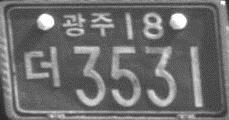1: (187, 44, 206, 109), (122, 10, 136, 41)
3: (71, 44, 106, 107), (143, 45, 177, 107)
5: (109, 44, 141, 107)
8: (142, 10, 164, 39)
광주_O: (62, 11, 114, 38)
더: (22, 45, 60, 88)
